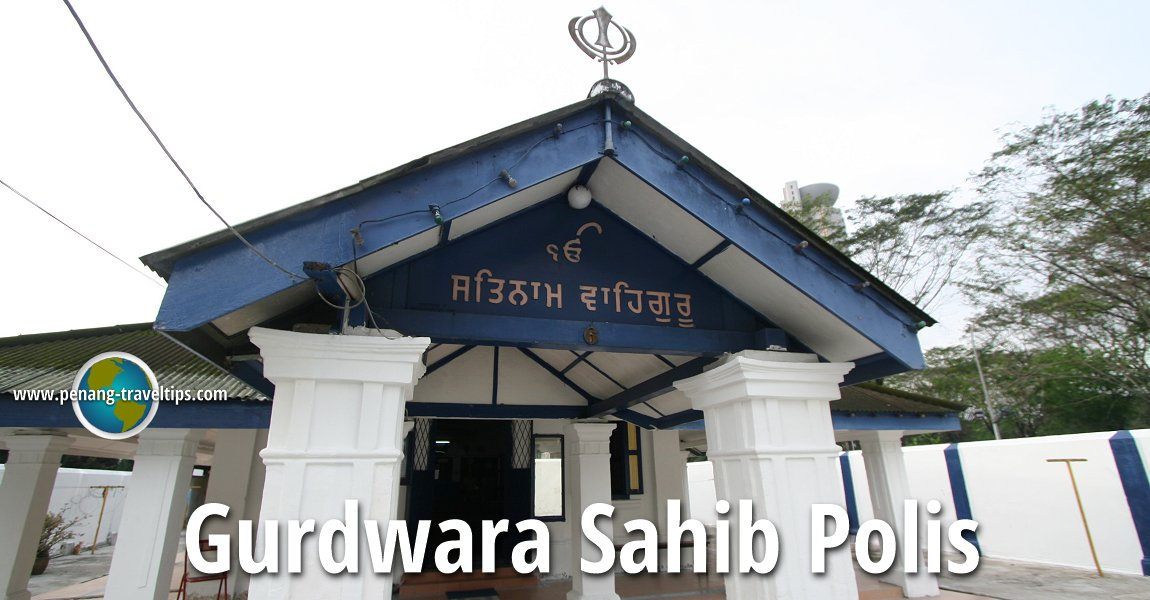Gurdwara: (44, 1, 897, 568)
